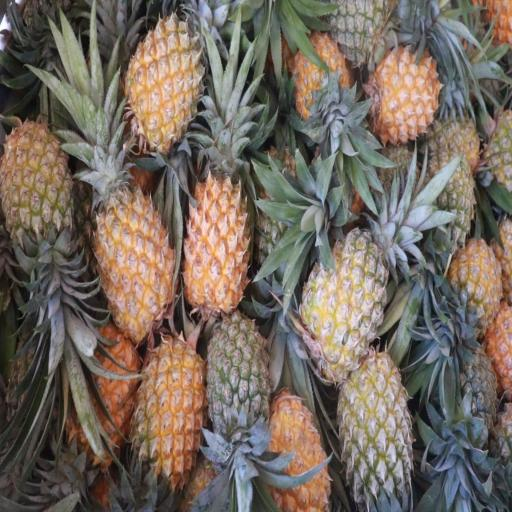------------------------------: (303, 234, 382, 378), (340, 360, 414, 506)
Pineapple - v8 v1: (96, 168, 172, 336), (0, 118, 75, 270), (126, 17, 202, 145), (184, 173, 250, 320), (136, 339, 202, 478), (74, 328, 136, 449), (268, 397, 326, 512), (372, 49, 440, 142), (293, 38, 350, 126), (451, 243, 502, 336)
